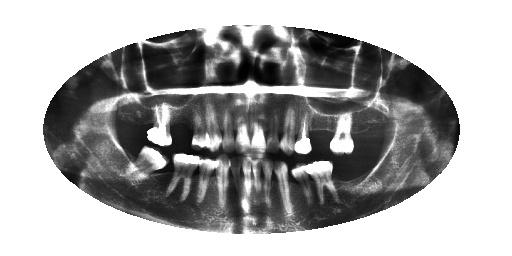15loss: (110, 135, 142, 165)
i10healthy: (212, 155, 235, 210)
i11chipped: (194, 152, 219, 208)
i12healthy: (166, 150, 200, 203)
i13loss: (147, 153, 175, 193)
i14healthy: (115, 144, 170, 188)
i2loss: (334, 160, 357, 202)
i3healthy: (302, 159, 341, 207)
i4decay: (290, 161, 316, 207)
i5decay: (272, 158, 297, 219)
i6decay: (260, 157, 275, 203)
i7healthy: (246, 154, 265, 202)
i8healthy: (238, 153, 257, 199)
i9decay: (226, 153, 244, 197)
u10decay: (220, 106, 237, 153)
u11healthy: (204, 95, 224, 152)
u12chipped: (188, 100, 205, 150)
u13loss: (170, 101, 193, 148)
u14healthy: (144, 102, 174, 147)
u15loss: (134, 104, 155, 142)
u2loss: (348, 113, 373, 155)
u3healthy: (328, 111, 357, 157)
u4loss: (311, 108, 333, 153)
u5healthy: (292, 104, 316, 157)
u6chipped: (278, 102, 298, 155)
u7decay: (265, 102, 280, 155)
u8healthy: (249, 110, 267, 157)
u9decay: (232, 107, 252, 154)
